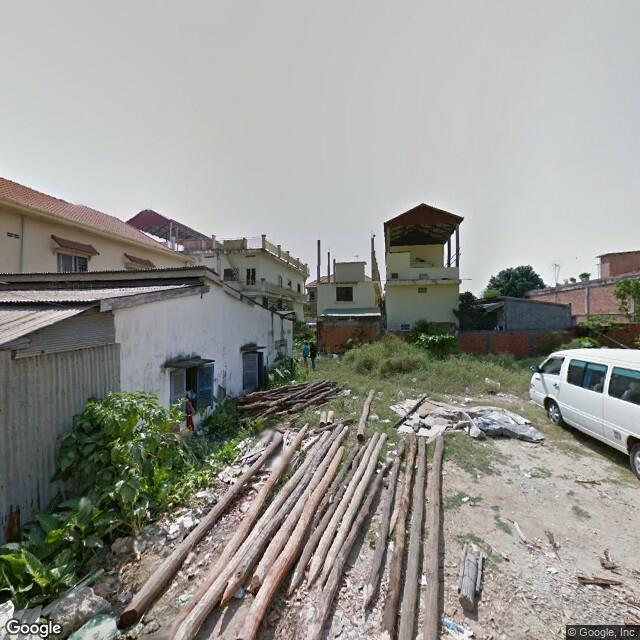litter: (394, 398, 546, 443), (155, 509, 205, 540), (443, 613, 475, 640), (240, 488, 255, 516)
